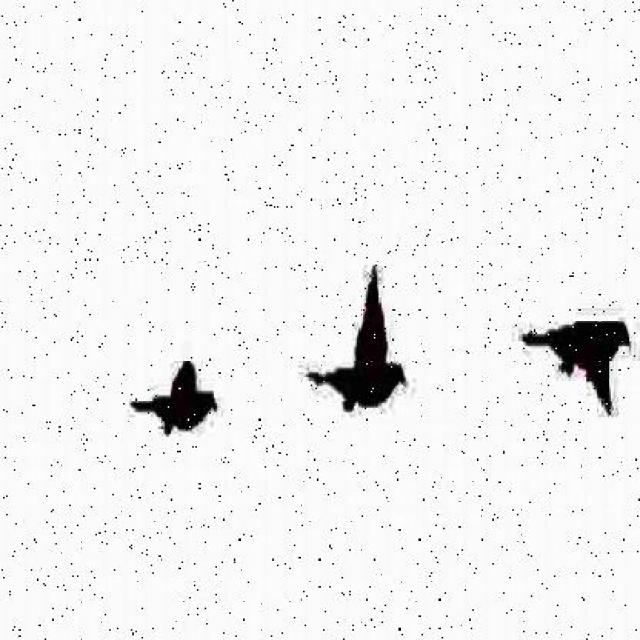bird: (307, 250, 419, 461), (512, 272, 638, 430), (128, 352, 235, 494)
